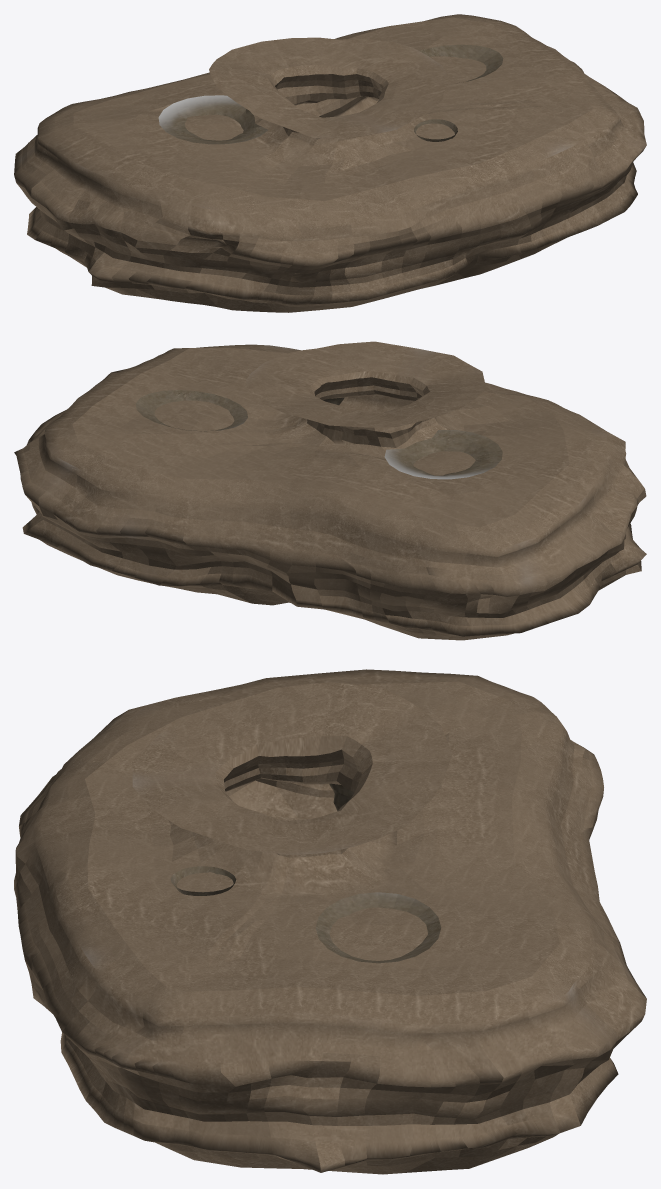
The model's file is Cavern_Textures.fbx.
3 renders of one model, top to bottom at view 1: azimuth 30°, elevation 25°; view 2: azimuth 150°, elevation 25°; view 3: azimuth 270°, elevation 25°, orthographic. The views are drawn at different scales.
Parts seen in each view (by area): view 1: Walls, Pillar1, Pillar3; view 2: Walls, Pillar1, Pillar3; view 3: Walls, Pillar3, Pillar2.
Boxes of the visible parts, x1,y1,x2,y2 form: Walls: (14,14,646,312); Pillar1: (158,95,267,144); Pillar3: (419,44,503,82); Walls: (14,341,646,640); Pillar1: (384,430,502,479); Pillar3: (135,390,247,431); Walls: (14,669,646,1174); Pillar3: (315,892,441,963); Pillar2: (170,866,236,895).
Bounding box in the file's own units: 887 × 270 × 599.
